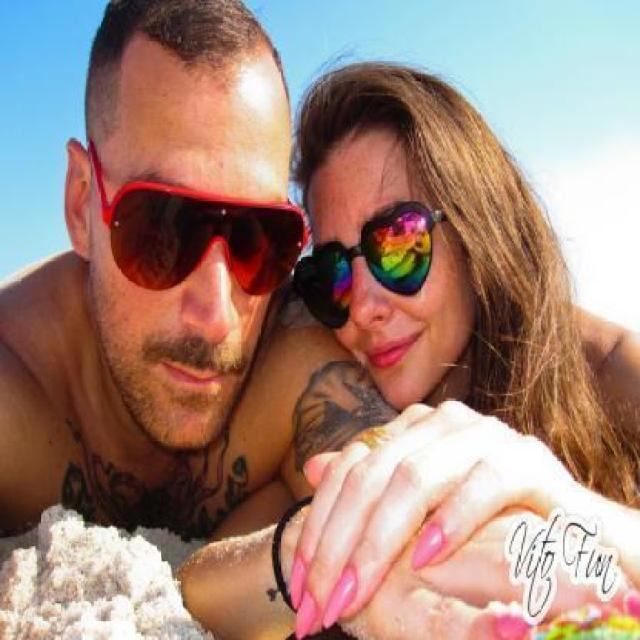face_nomask: (99, 165, 292, 402), (293, 212, 459, 373)
glasses: (97, 167, 312, 305), (288, 195, 442, 330)
hand_noglove: (281, 388, 570, 634)
head_nohelmet: (107, 1, 302, 118), (285, 65, 438, 184)
